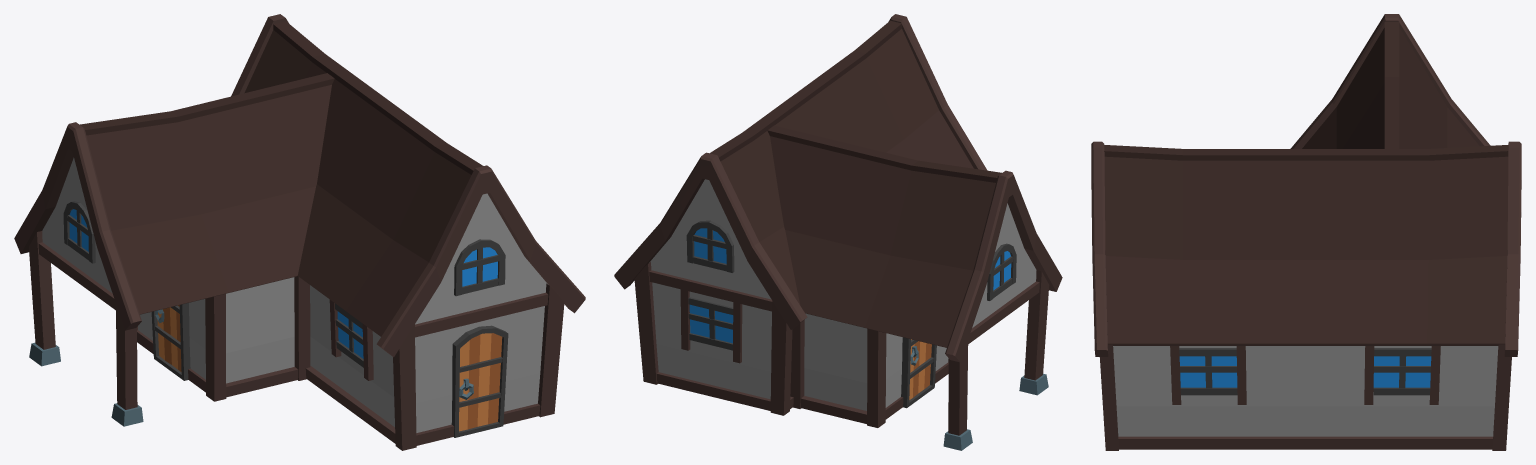
Rendered from House_3-1.fbx.
3 renders of one model, left to right at view 1: azimuth 30°, elevation 25°; view 2: azimuth 150°, elevation 25°; view 3: azimuth 270°, elevation 25°, orthographic. The views are drawn at different scales.
Visible parts, largest first — view 1: Town_BG_Bd_Store_A.002; view 2: Town_BG_Bd_Store_A.002; view 3: Town_BG_Bd_Store_A.002.
Part boxes in pixels (x1,y1,x2,y2): Town_BG_Bd_Store_A.002: (14, 14, 585, 450); Town_BG_Bd_Store_A.002: (614, 14, 1062, 450); Town_BG_Bd_Store_A.002: (1091, 14, 1521, 450).
Bounding box in the file's own units: 768 × 530 × 768.
